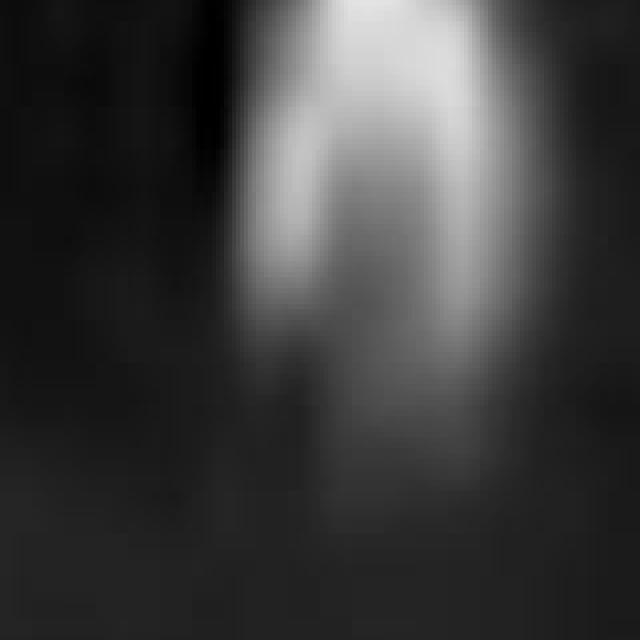person: (217, 1, 525, 481)
